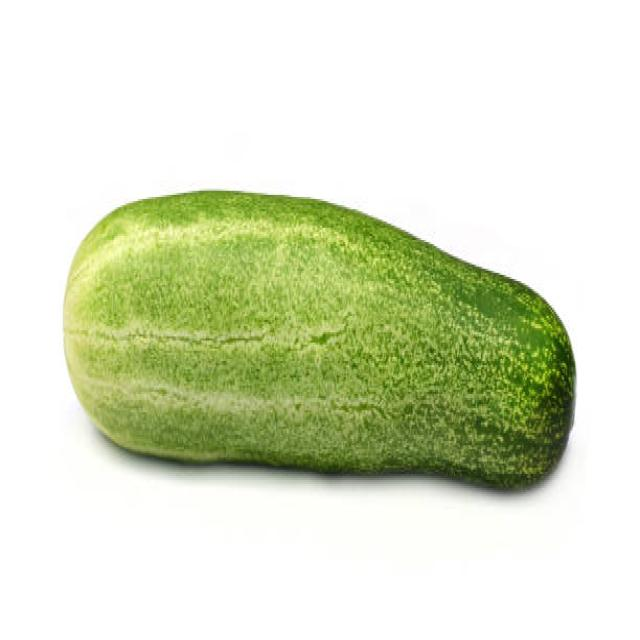cucumber: (63, 189, 576, 491)
